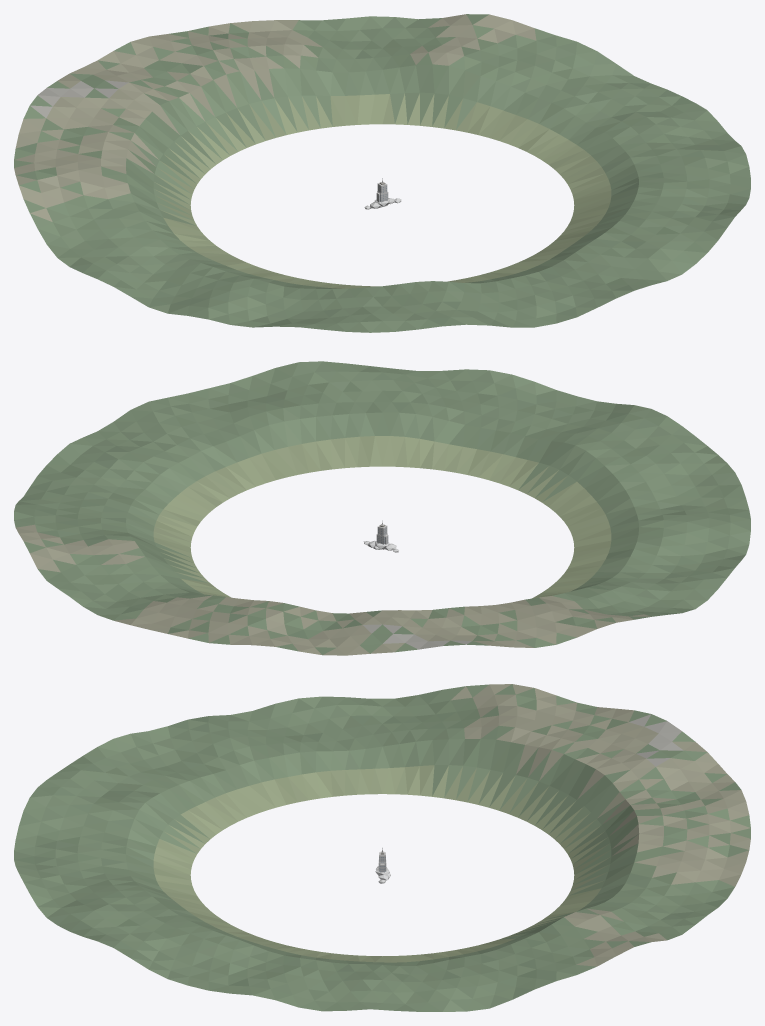
The model's file is scenery.glb.
The picture shows the model from 3 angles, top to bottom: view 1: azimuth 30°, elevation 25°; view 2: azimuth 150°, elevation 25°; view 3: azimuth 270°, elevation 25°; orthographic projection.
Visible parts, largest first — view 1: hills; view 2: hills; view 3: hills.
Boxes of the visible parts, left/top/right/bottom form: hills: left=14, top=14, right=750, bottom=332; hills: left=14, top=361, right=750, bottom=655; hills: left=14, top=684, right=750, bottom=1011.
Size of the model in its own units: 2998 by 248 by 2998.
